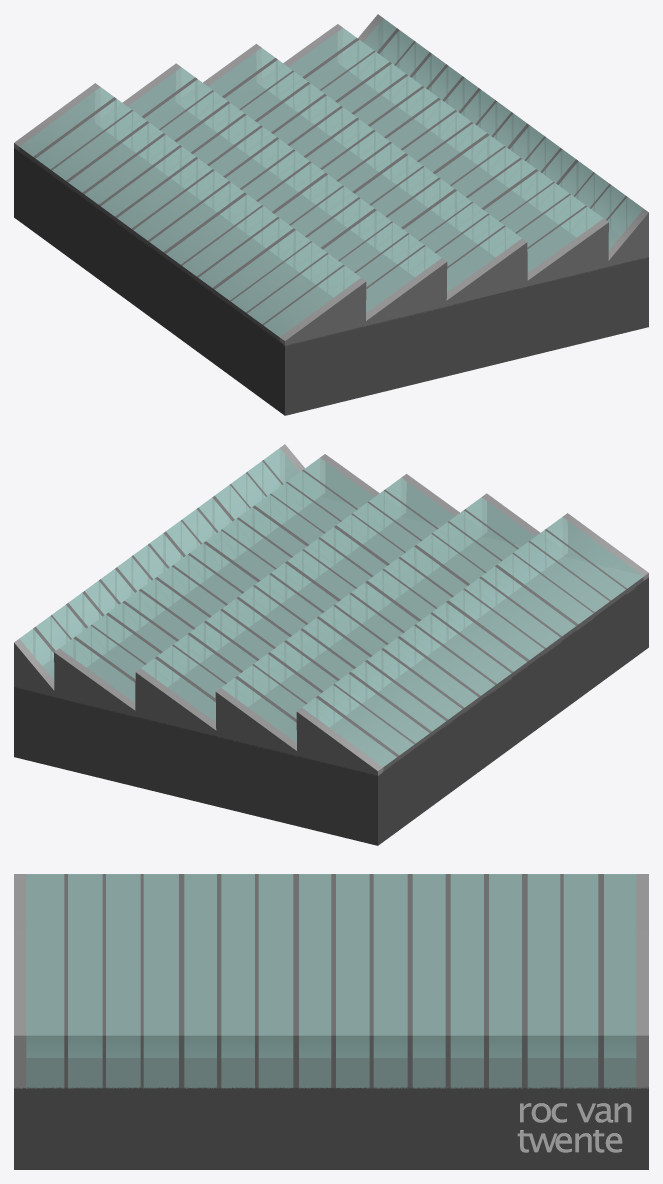
The model's file is roc van twente.fbx.
3 views of the same model, one above another, from view 1: azimuth 30°, elevation 25°; view 2: azimuth 150°, elevation 25°; view 3: azimuth 270°, elevation 25° (orthographic). The views are drawn at different scales.
Visible parts, largest first — view 1: pCube2, pCube1; view 2: pCube2, pCube1; view 3: pCube1, pCube2, typeMesh1.
Boxes of the visible parts, box(x1,y1,x2,y2) form: pCube2: box(14, 14, 648, 346); pCube1: box(14, 67, 648, 415); pCube2: box(14, 444, 648, 775); pCube1: box(14, 497, 648, 845); pCube1: box(14, 880, 648, 1169); pCube2: box(14, 874, 648, 1088); typeMesh1: box(517, 1103, 631, 1152).
Size of the model in its own units: 34.14 by 10.26 by 43.96.
